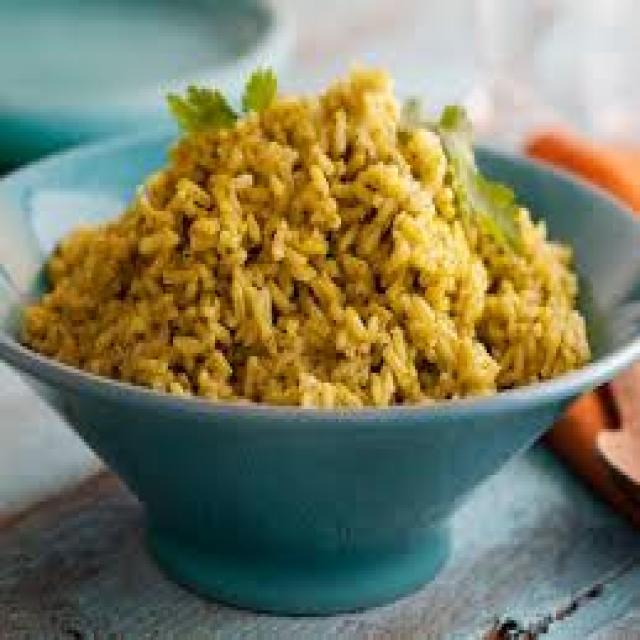organic: (126, 137, 508, 386)
